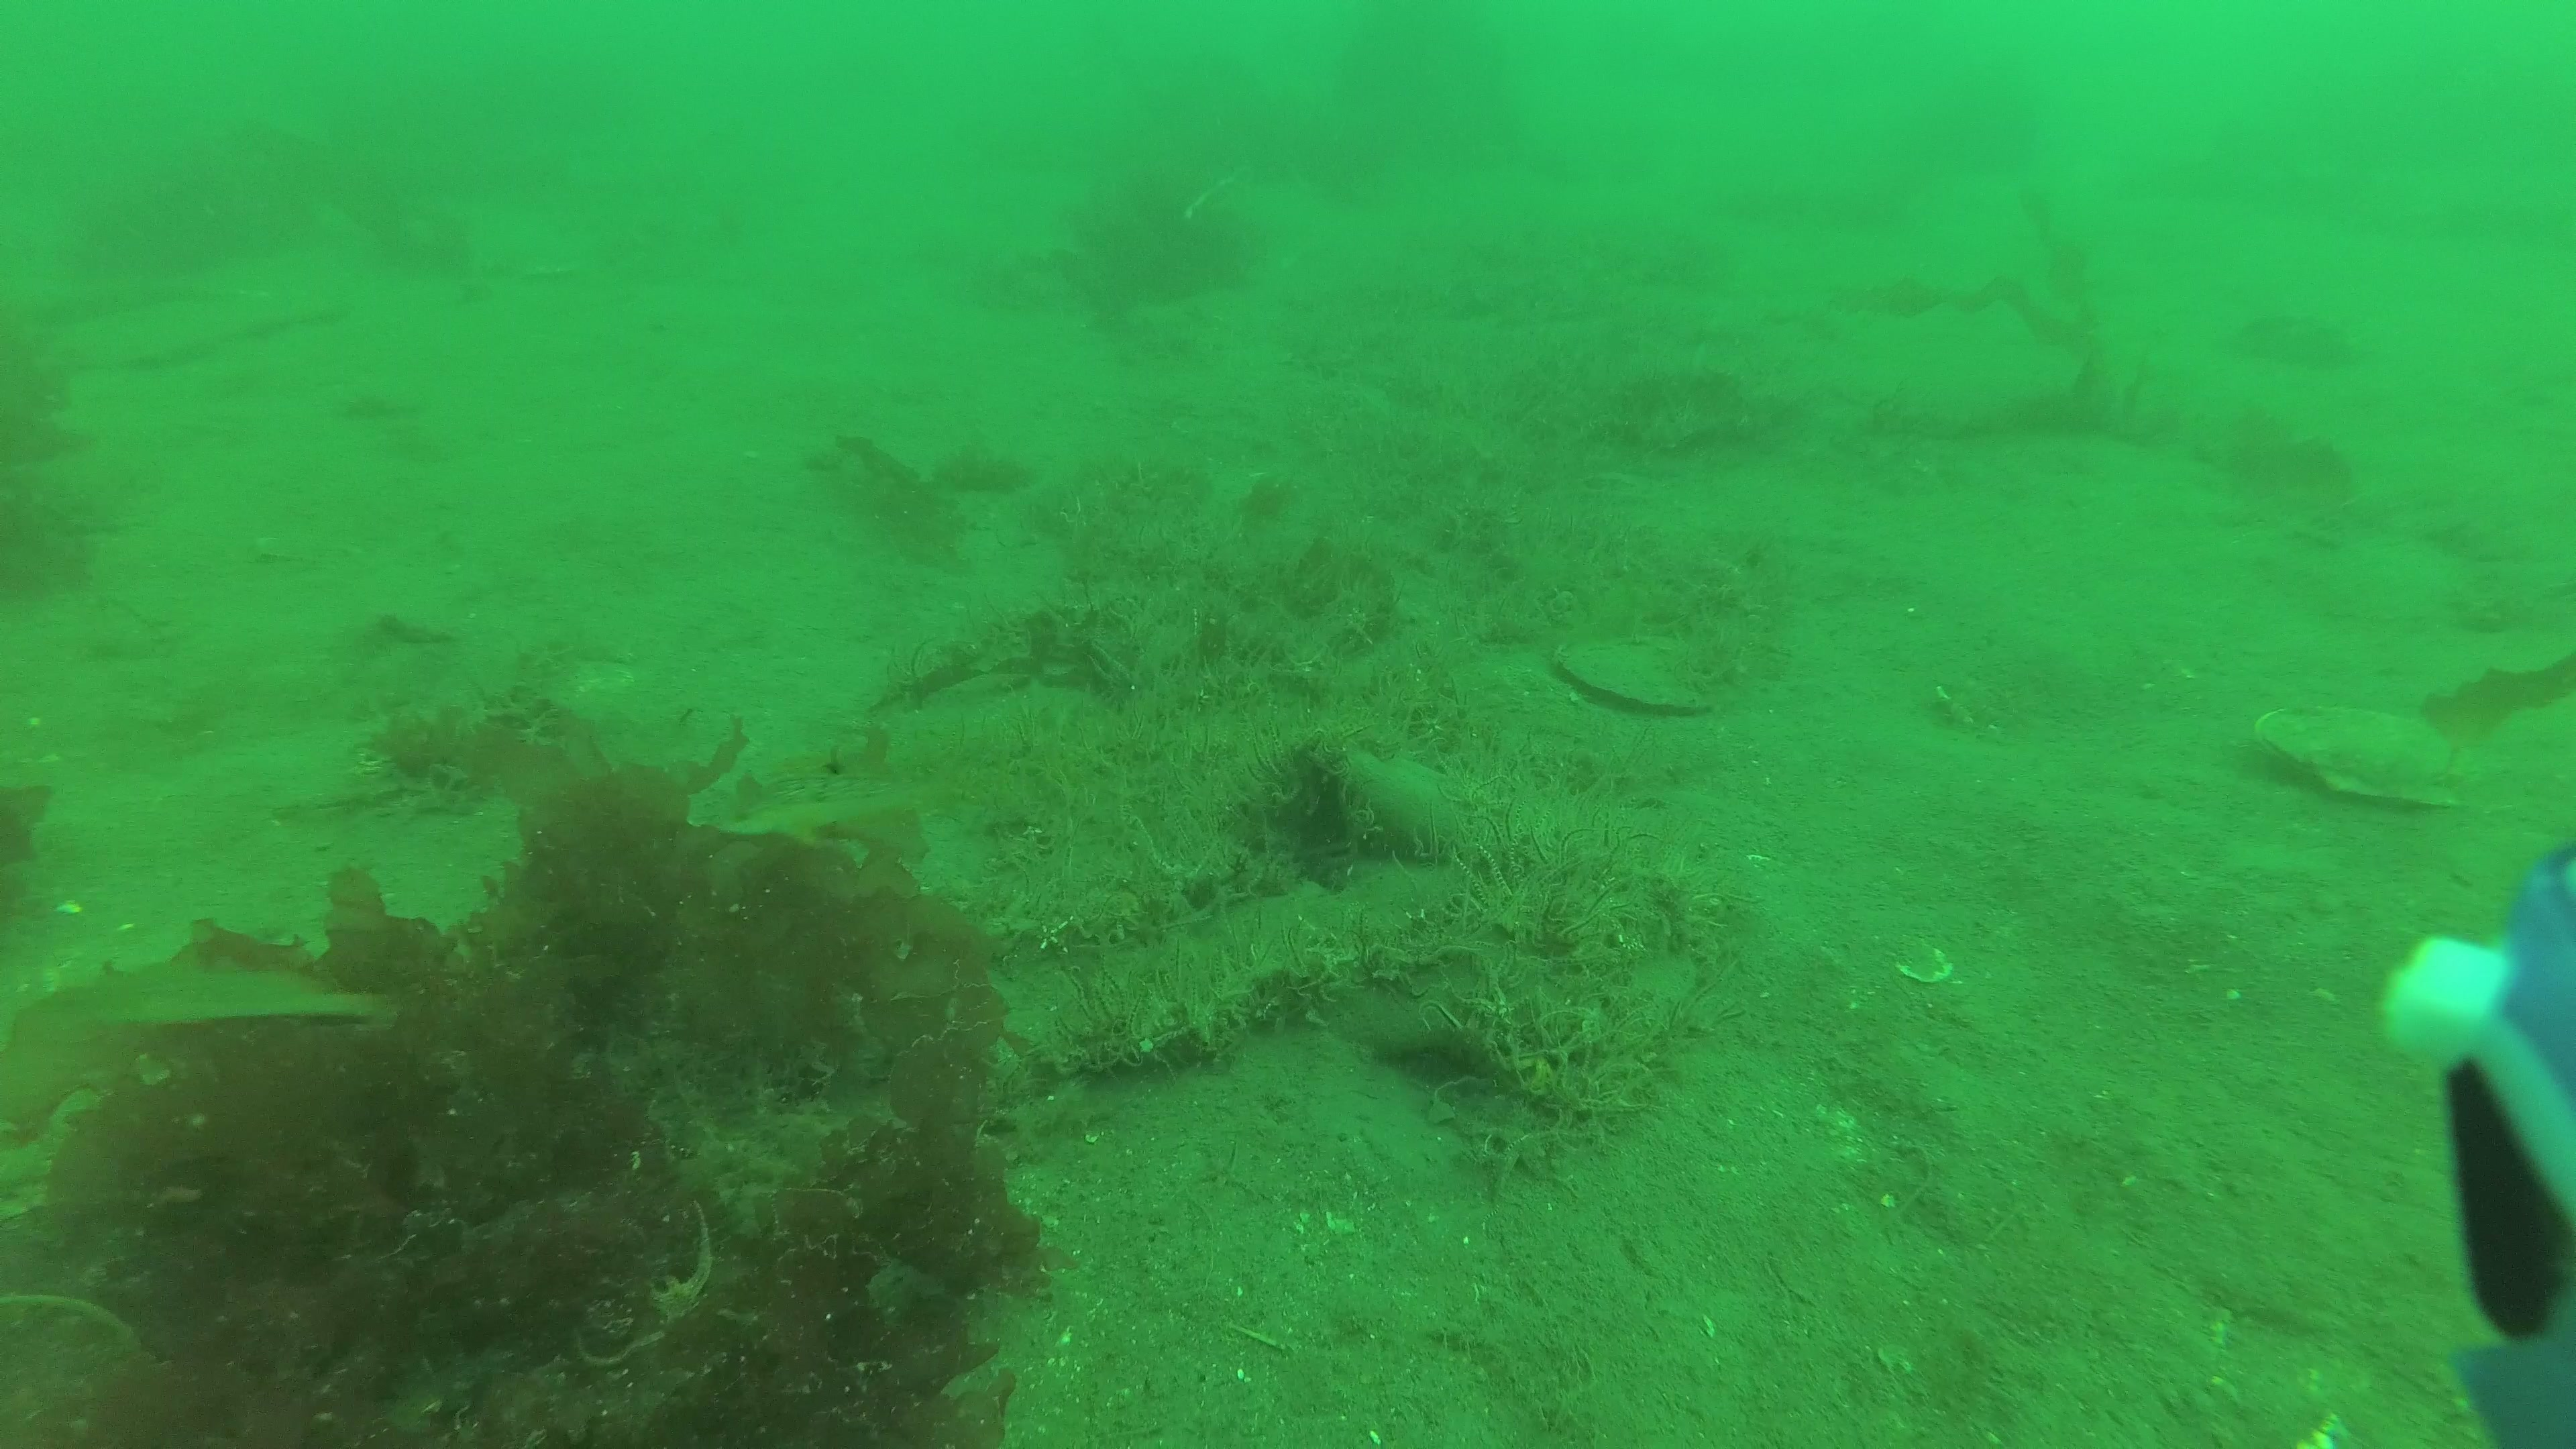scallop: (2254, 702, 2468, 814), (1553, 637, 1704, 713)
